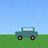vehicle: (15, 27, 37, 40)
